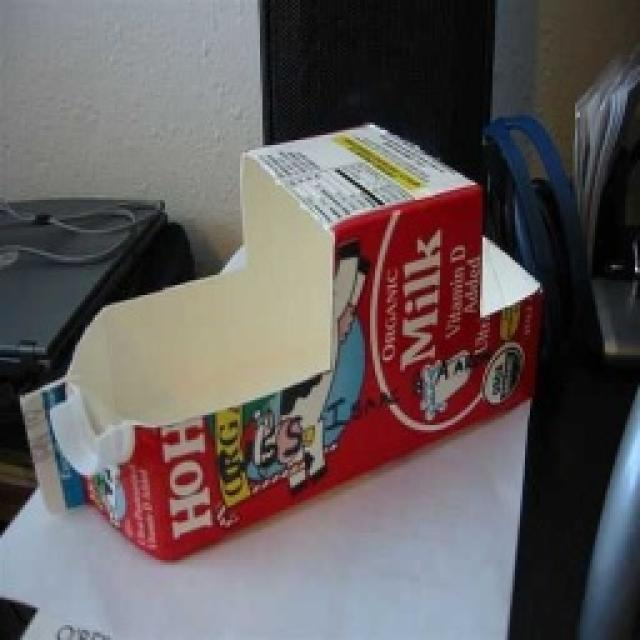box: (30, 108, 560, 564)
